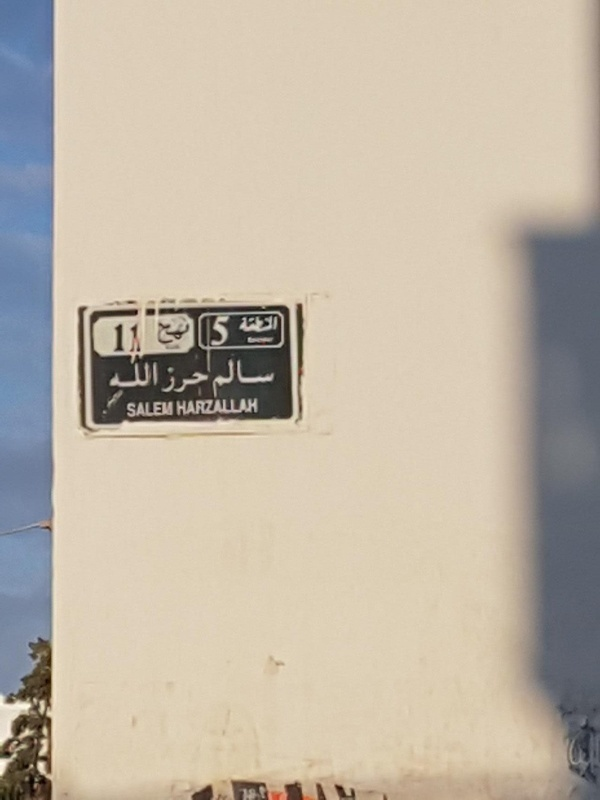text: (225, 359, 240, 398), (241, 359, 256, 398), (257, 359, 272, 398), (193, 367, 209, 395), (113, 360, 128, 389), (129, 360, 144, 389), (177, 367, 192, 395), (162, 367, 176, 395), (211, 316, 224, 346), (161, 318, 176, 344), (214, 359, 224, 398), (115, 324, 128, 353), (129, 324, 141, 353), (145, 360, 157, 389), (177, 318, 190, 344), (241, 313, 256, 334), (257, 313, 272, 334), (177, 398, 192, 417), (193, 398, 208, 417), (209, 398, 224, 417), (225, 398, 240, 417), (241, 398, 256, 417), (129, 401, 144, 418), (145, 401, 160, 418), (161, 401, 175, 418), (257, 335, 272, 346), (273, 313, 279, 334), (225, 316, 229, 346), (273, 359, 276, 398), (246, 335, 256, 346), (164, 344, 176, 351), (157, 318, 160, 344), (257, 398, 261, 417), (110, 360, 112, 389), (177, 344, 182, 351), (273, 335, 276, 346), (239, 313, 240, 334), (127, 401, 128, 418)
